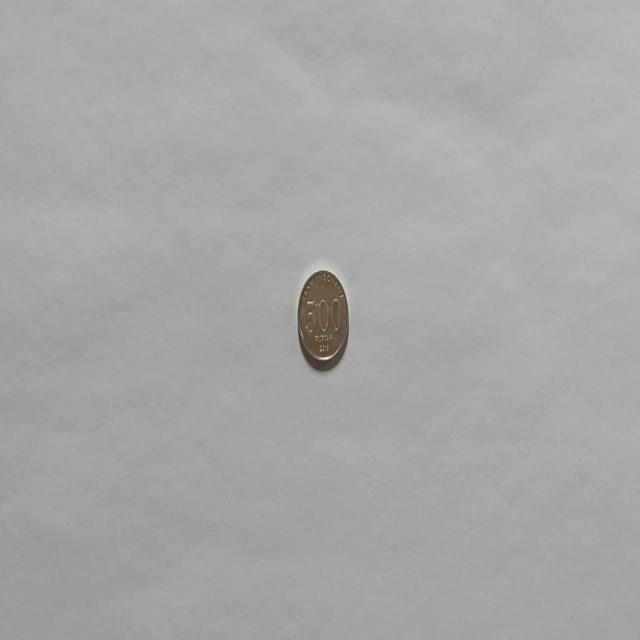lima ratus rupiah: (296, 268, 350, 370)
